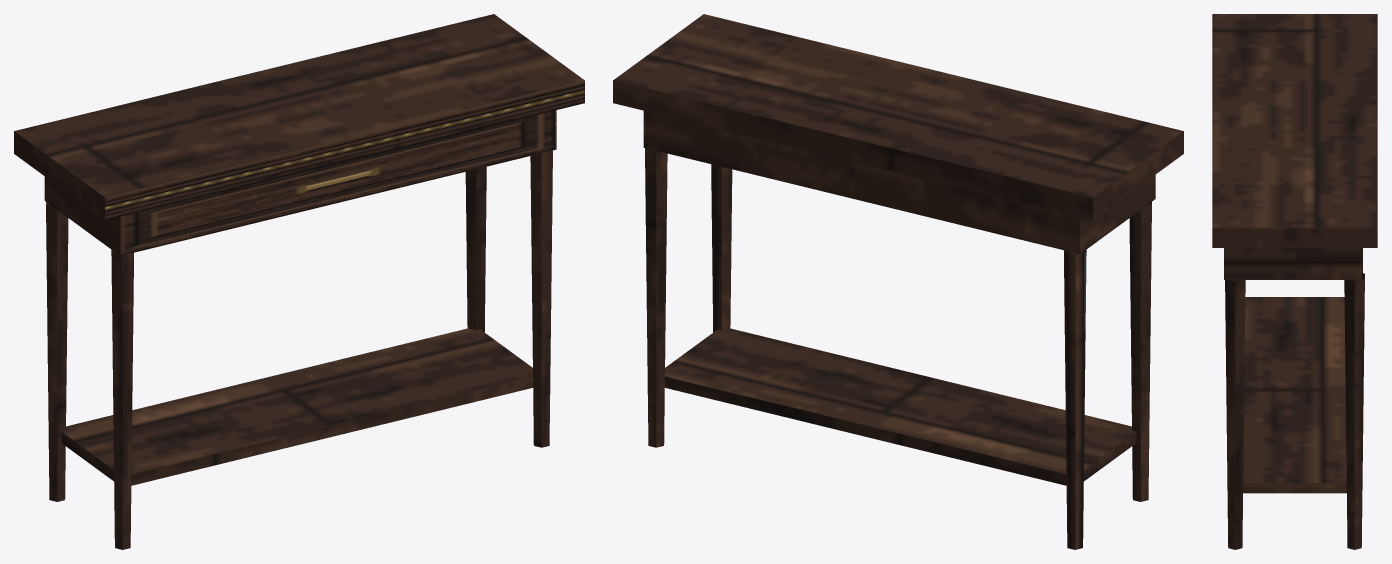
The model's file is Atmos_Console_Table.fbx.
The picture shows the model from 3 angles, left to right: view 1: azimuth 30°, elevation 25°; view 2: azimuth 150°, elevation 25°; view 3: azimuth 270°, elevation 25°; orthographic projection. The views are drawn at different scales.
Parts seen in each view (by area): view 1: Atmos_Console_Table; view 2: Atmos_Console_Table; view 3: Atmos_Console_Table.
Boxes of the visible parts, left/top/right/bottom form: Atmos_Console_Table: left=14, top=14, right=584, bottom=549; Atmos_Console_Table: left=613, top=14, right=1183, bottom=549; Atmos_Console_Table: left=1212, top=14, right=1377, bottom=549.
Bounding box in the file's own units: 110 × 80 × 36.
